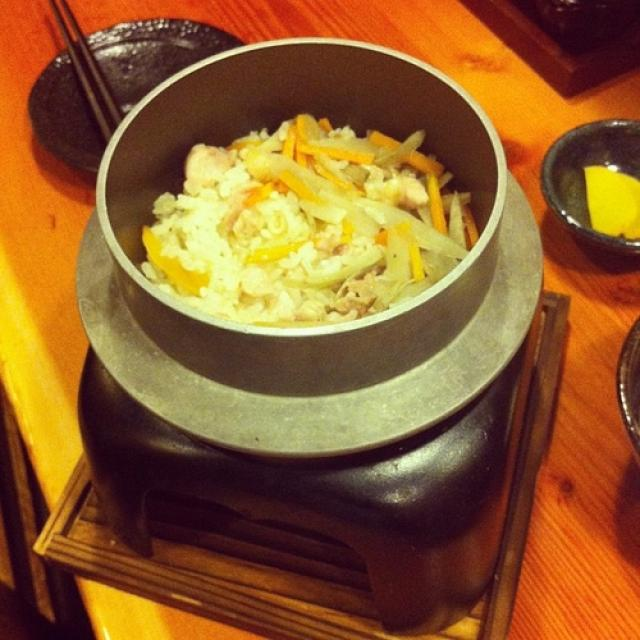豆腐料理: (114, 26, 522, 570)
